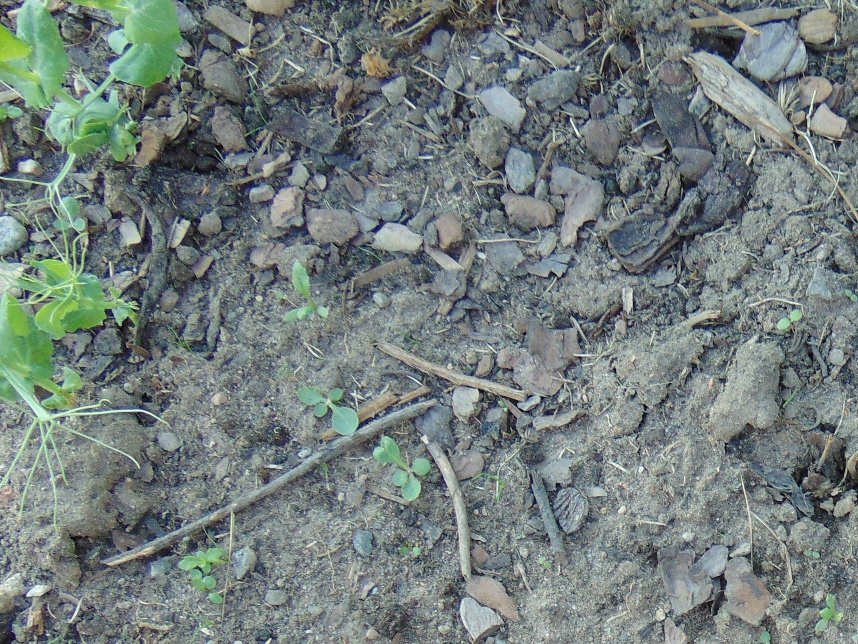crop: (1, 1, 192, 220), (1, 209, 123, 483)
weed: (372, 435, 428, 502), (299, 383, 361, 435), (177, 546, 228, 604), (283, 259, 331, 317), (816, 592, 843, 633), (54, 197, 84, 230)
